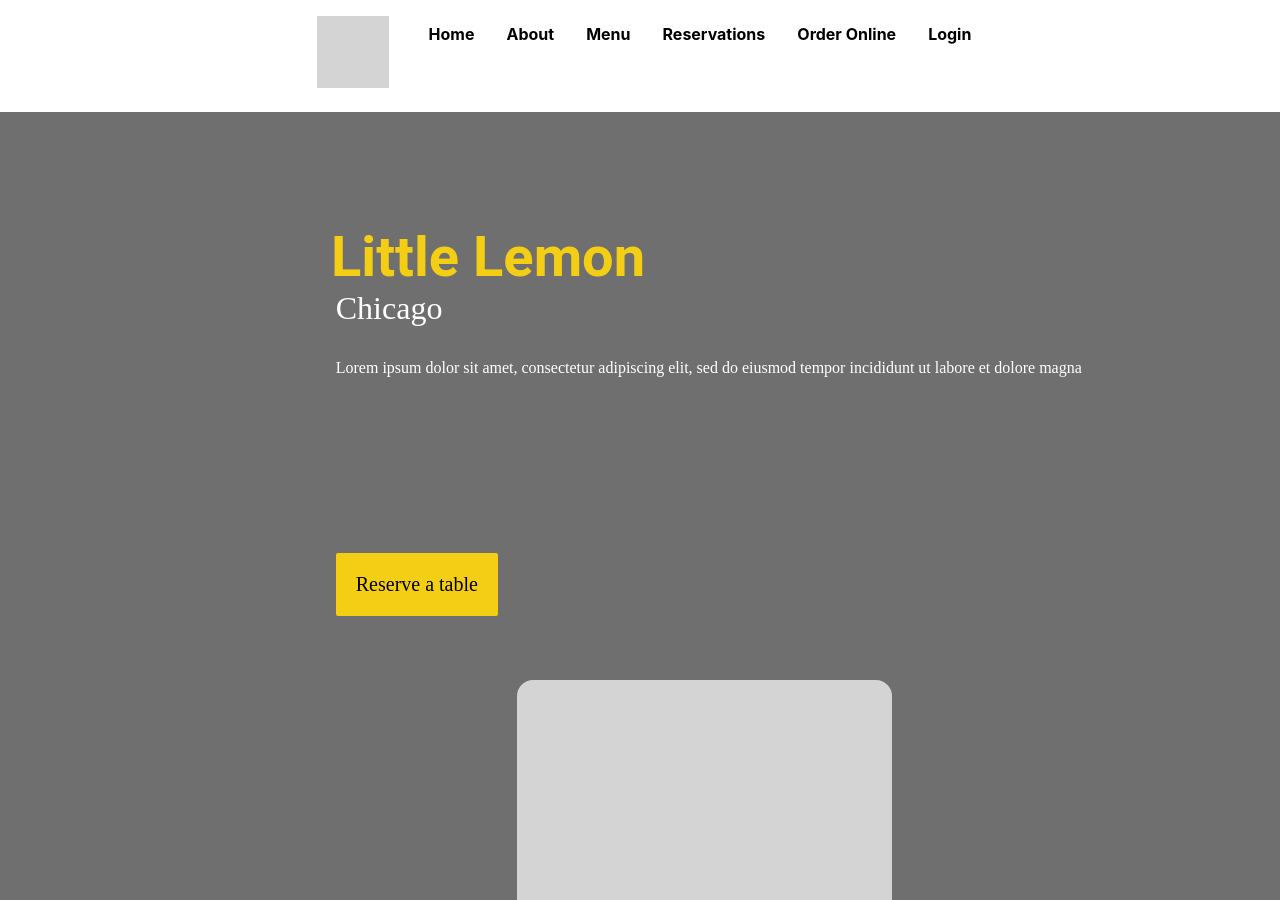
it: reserve a table button is working
Click the button "Reserve a table".
click(417, 584)  # box [336,553,498,616]
(page scrolled)
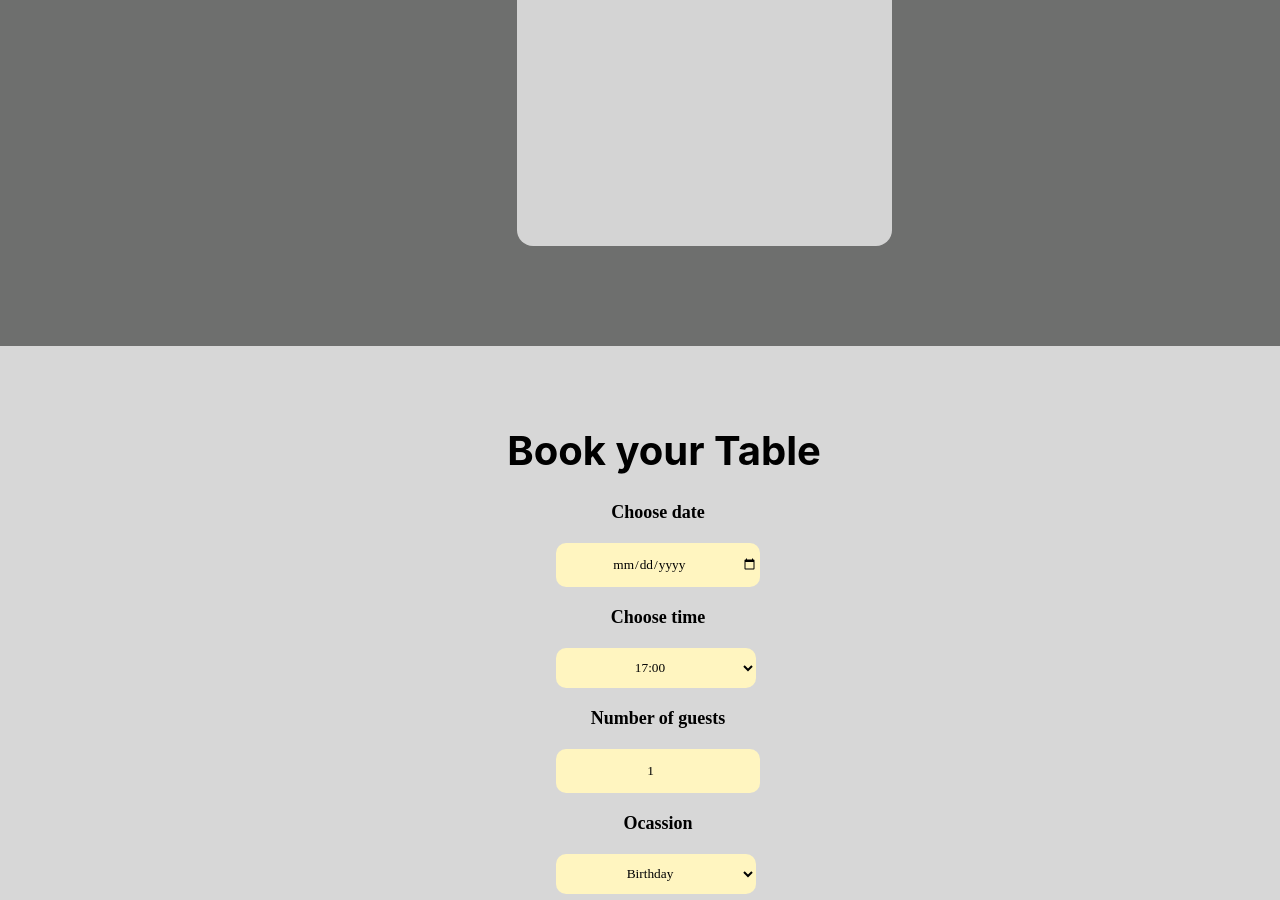
expect the heading "Book your Table" is shown: met, box [507,426,821,475]
